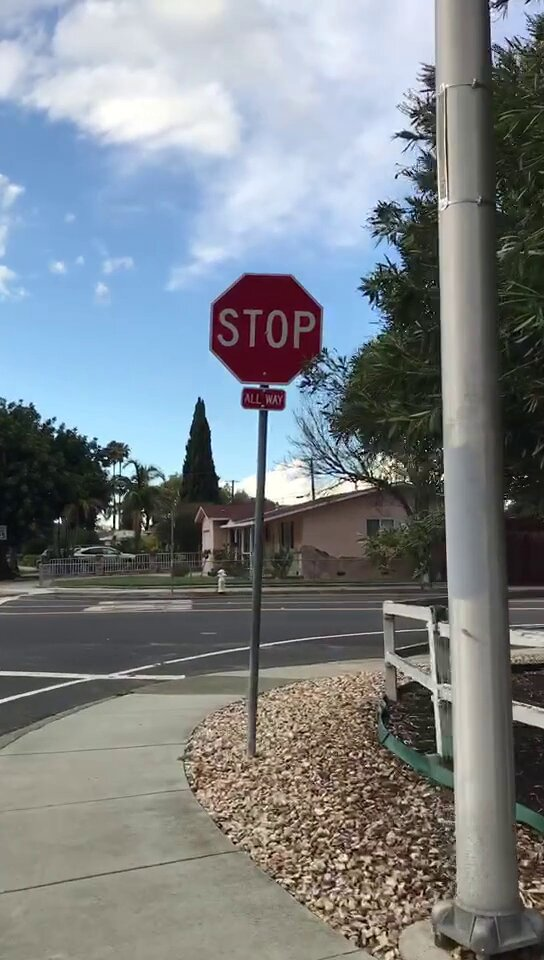stop_sign: (210, 274, 323, 384)
